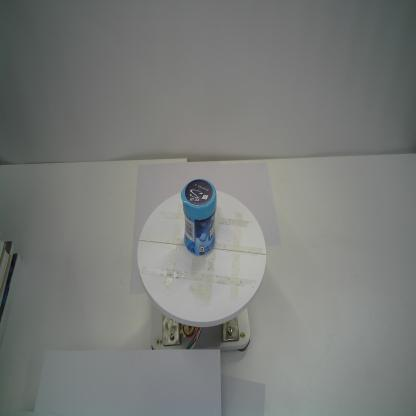Gum: (181, 177, 219, 258)
